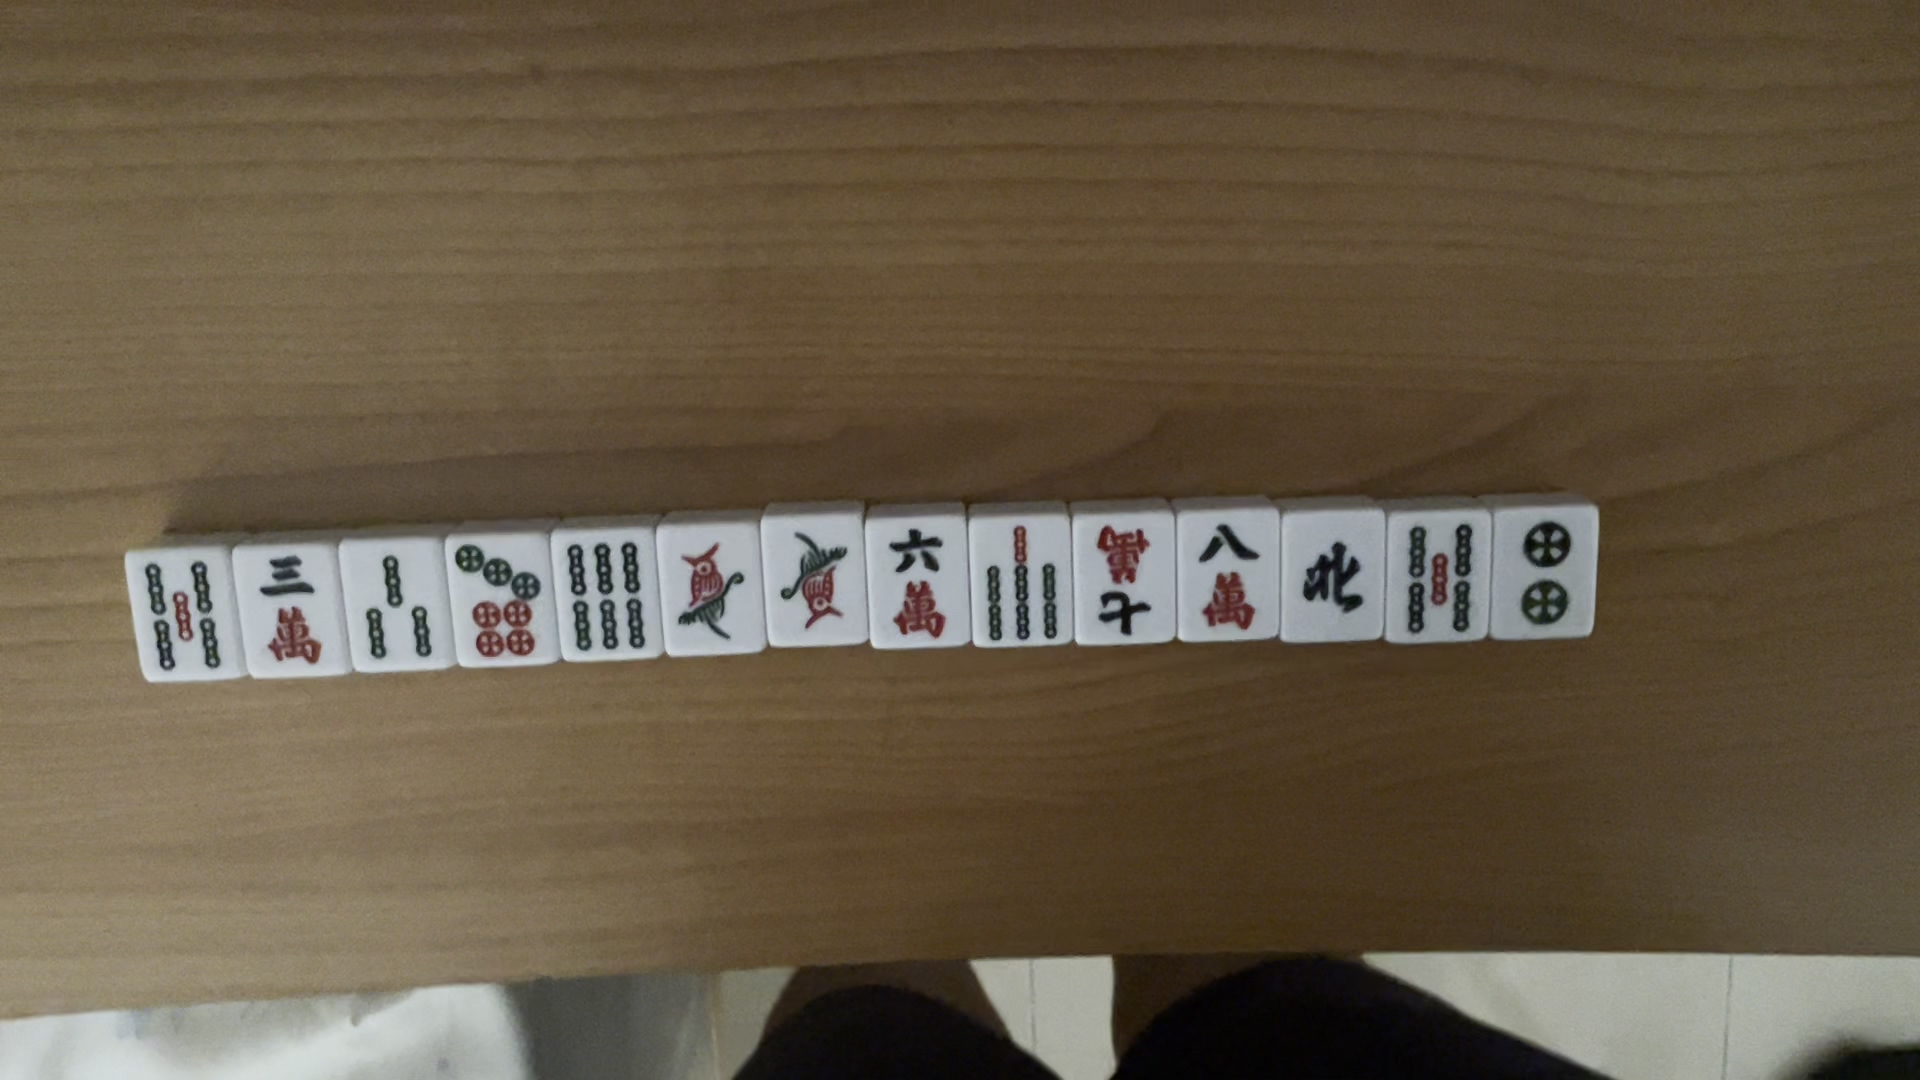b-1: (674, 537, 754, 650), (771, 530, 855, 634)
b-3: (348, 547, 441, 664)
b-5: (139, 550, 223, 675), (1400, 514, 1480, 644)
b-6: (564, 538, 648, 659)
b-7: (976, 521, 1068, 647)
c-3: (251, 553, 333, 669)
c-6: (877, 525, 962, 640)
c-7: (1090, 521, 1158, 644)
c-8: (1191, 518, 1258, 640)
d-2: (1509, 517, 1573, 630)
d-7: (451, 535, 551, 659)
honors-north: (1290, 528, 1370, 625)
